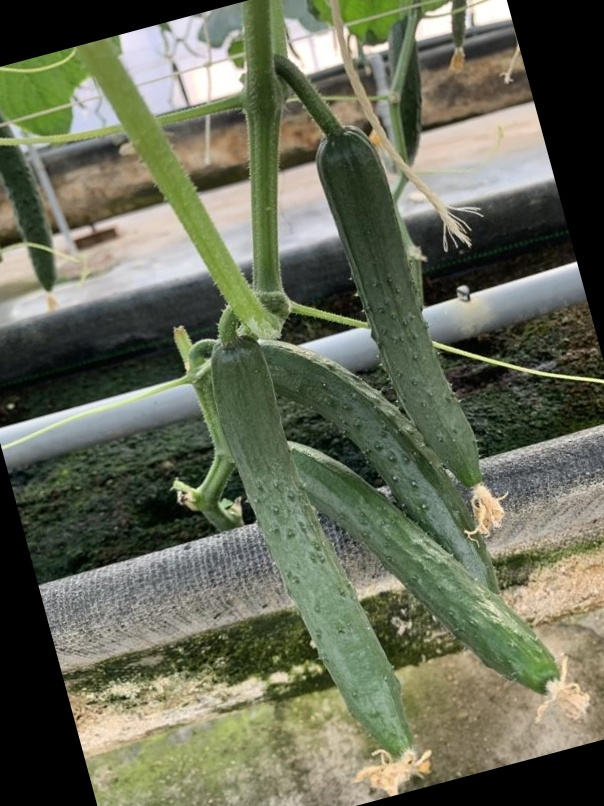mature: (206, 336, 425, 756), (288, 434, 560, 689), (310, 122, 490, 494)
